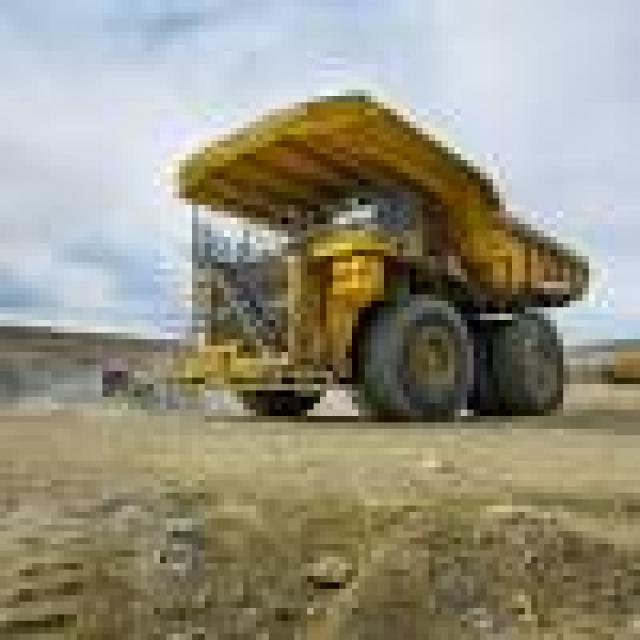dump_truck: (134, 70, 602, 473)
